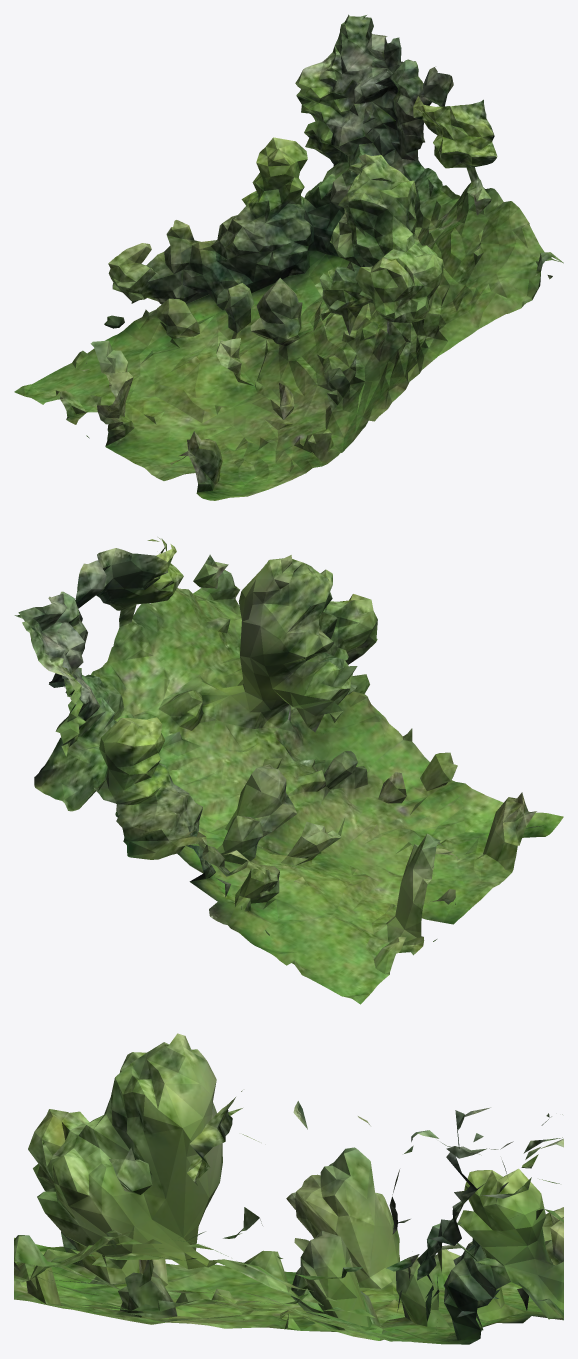
3 renders of one model, top to bottom at view 1: azimuth 30°, elevation 25°; view 2: azimuth 150°, elevation 25°; view 3: azimuth 270°, elevation 25°, orthographic. The views are drawn at different scales.
Bounding box in the file's own units: 52.22 × 42.4 × 52.22.
5 materials, 5 textured.
